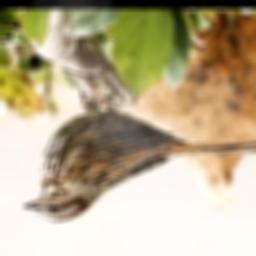Sparrow: (23, 66, 256, 224)
